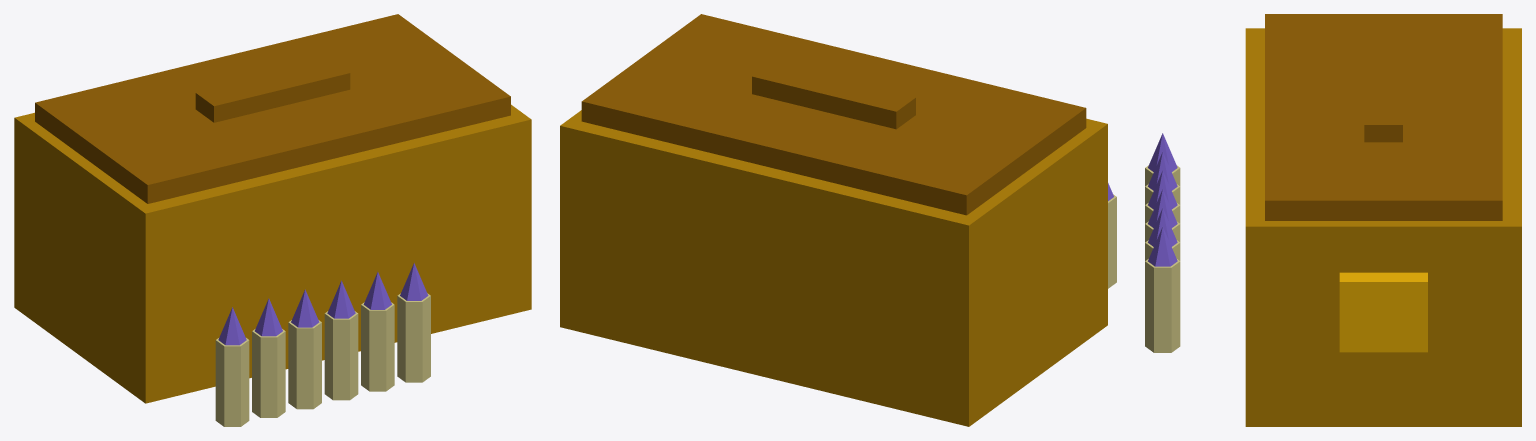
The model's file is ce_ammo_highcal_inc_c.obj.
3 renders of one model, left to right at view 1: azimuth 30°, elevation 25°; view 2: azimuth 150°, elevation 25°; view 3: azimuth 270°, elevation 25°, orthographic. The views are drawn at different scales.
Visible parts, largest first — view 1: ce_ammo_highcal_inc_c_0, ce_ammo_highcal_inc_c_1, ce_ammo_highcal_inc_c_2, ce_ammo_highcal_inc_c_10, ce_ammo_highcal_inc_c_4, ce_ammo_highcal_inc_c_8, ce_ammo_highcal_inc_c_12, ce_ammo_highcal_inc_c_14, ce_ammo_highcal_inc_c_6, ce_ammo_highcal_inc_c_5, ce_ammo_highcal_inc_c_7, ce_ammo_highcal_inc_c_9 (+3 smaller); view 2: ce_ammo_highcal_inc_c_0, ce_ammo_highcal_inc_c_1, ce_ammo_highcal_inc_c_2, ce_ammo_highcal_inc_c_4; view 3: ce_ammo_highcal_inc_c_0, ce_ammo_highcal_inc_c_1, ce_ammo_highcal_inc_c_3, ce_ammo_highcal_inc_c_2, ce_ammo_highcal_inc_c_14, ce_ammo_highcal_inc_c_15, ce_ammo_highcal_inc_c_9, ce_ammo_highcal_inc_c_11, ce_ammo_highcal_inc_c_5, ce_ammo_highcal_inc_c_7, ce_ammo_highcal_inc_c_13.
Boxes of the visible parts, x1,y1,x2,y2 form: ce_ammo_highcal_inc_c_0: (14,104,531,403); ce_ammo_highcal_inc_c_1: (35,14,510,203); ce_ammo_highcal_inc_c_2: (195,59,350,122); ce_ammo_highcal_inc_c_10: (324,311,358,400); ce_ammo_highcal_inc_c_4: (215,338,249,426); ce_ammo_highcal_inc_c_8: (288,320,321,409); ce_ammo_highcal_inc_c_12: (361,302,394,391); ce_ammo_highcal_inc_c_14: (397,293,430,382); ce_ammo_highcal_inc_c_6: (252,329,285,417); ce_ammo_highcal_inc_c_5: (218,307,246,345); ce_ammo_highcal_inc_c_7: (255,298,282,336); ce_ammo_highcal_inc_c_9: (291,289,319,327); ce_ammo_highcal_inc_c_0: (560,110,1107,426); ce_ammo_highcal_inc_c_1: (581,14,1086,215); ce_ammo_highcal_inc_c_2: (752,62,915,129); ce_ammo_highcal_inc_c_4: (1108,194,1116,288); ce_ammo_highcal_inc_c_0: (1245,28,1521,426); ce_ammo_highcal_inc_c_1: (1265,14,1502,220); ce_ammo_highcal_inc_c_3: (1339,272,1427,352); ce_ammo_highcal_inc_c_2: (1364,55,1402,142); ce_ammo_highcal_inc_c_14: (1145,259,1180,352); ce_ammo_highcal_inc_c_15: (1148,226,1177,266); ce_ammo_highcal_inc_c_9: (1148,170,1177,209); ce_ammo_highcal_inc_c_11: (1148,189,1177,228); ce_ammo_highcal_inc_c_5: (1148,133,1177,171); ce_ammo_highcal_inc_c_7: (1148,152,1177,190); ce_ammo_highcal_inc_c_13: (1148,208,1177,246).
Size of the model in its own units: 0.89 by 0.475 by 0.682.
